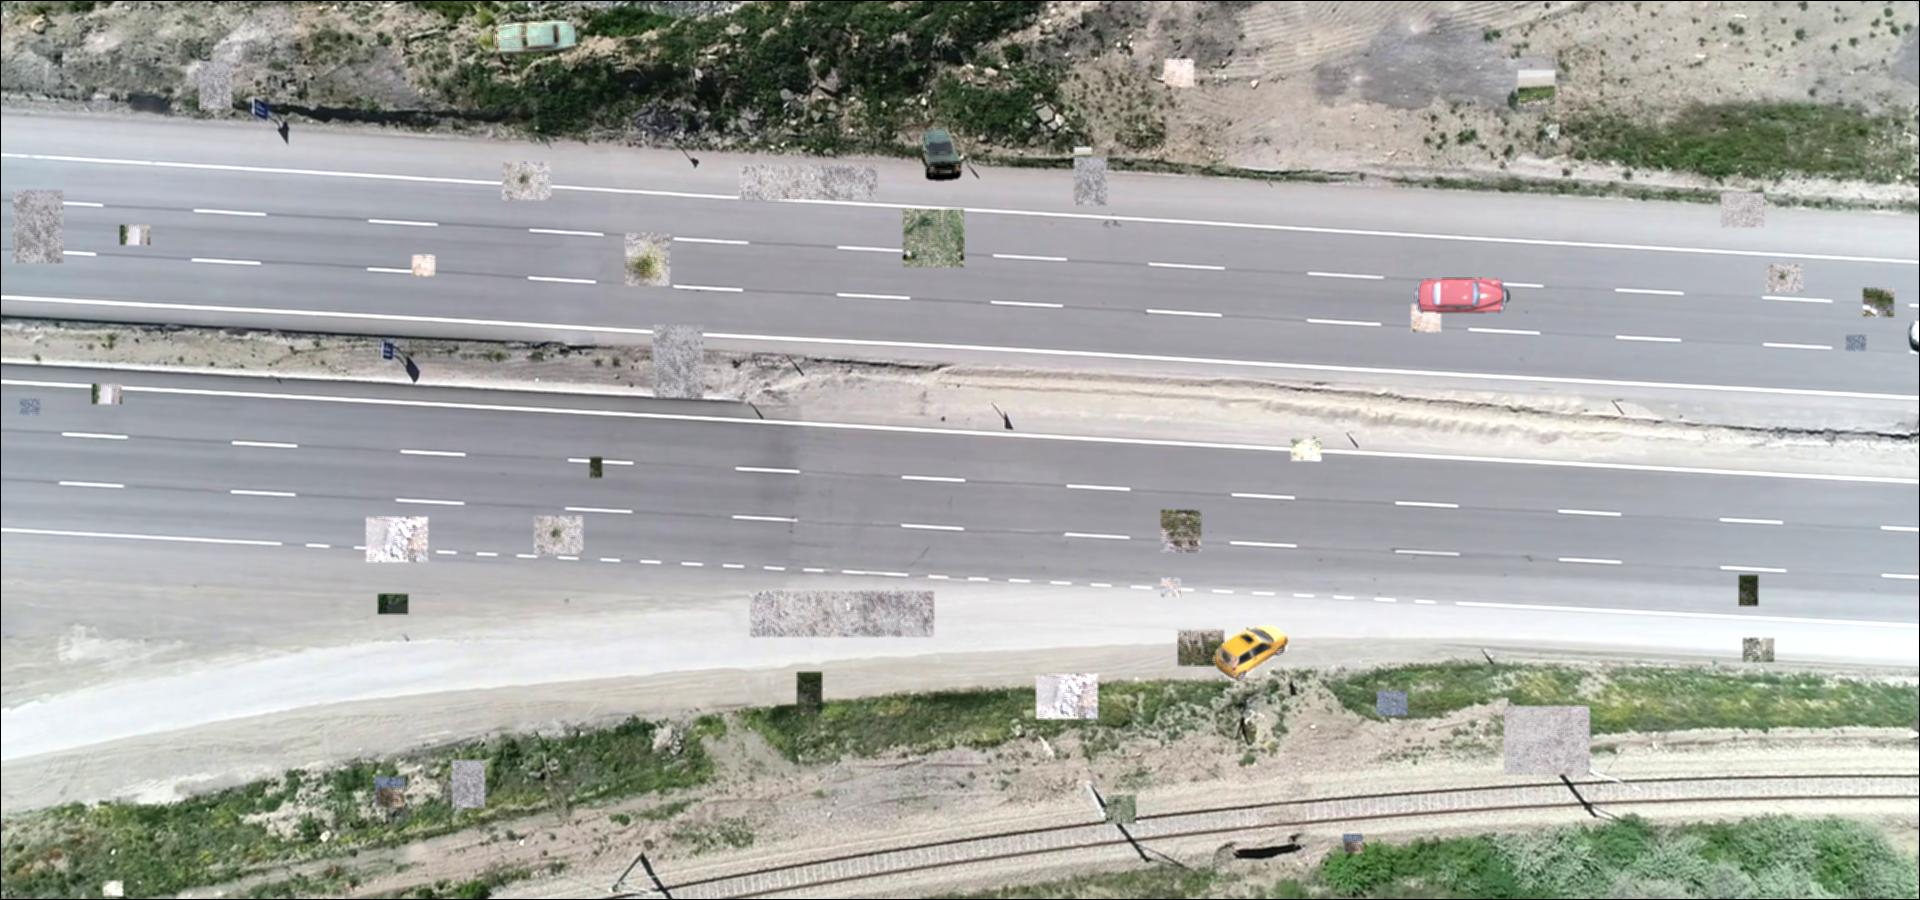arac: (1213, 626, 1289, 681), (1416, 276, 1510, 316), (489, 20, 582, 55), (918, 129, 962, 181)
